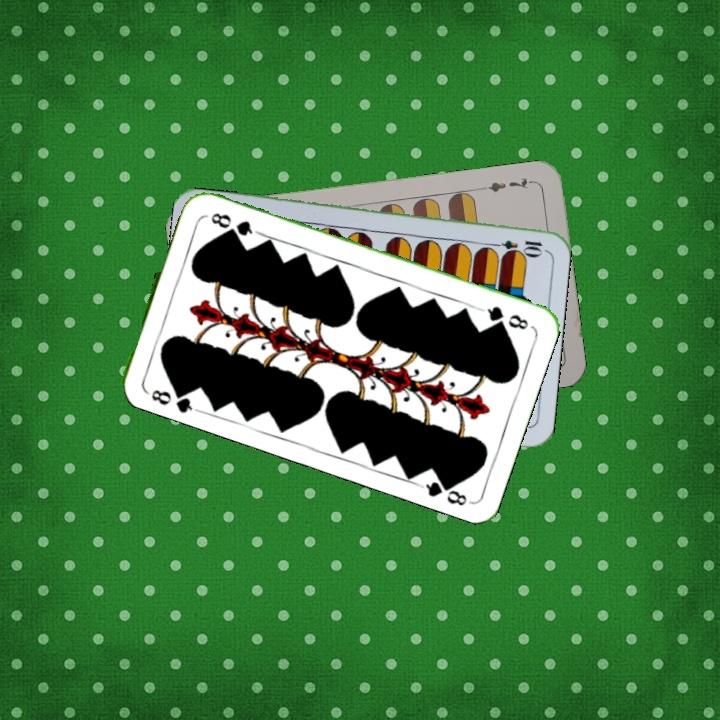E10: (485, 236, 545, 256)
E7: (478, 173, 537, 195)
G8: (141, 382, 198, 415), (476, 302, 531, 332)
